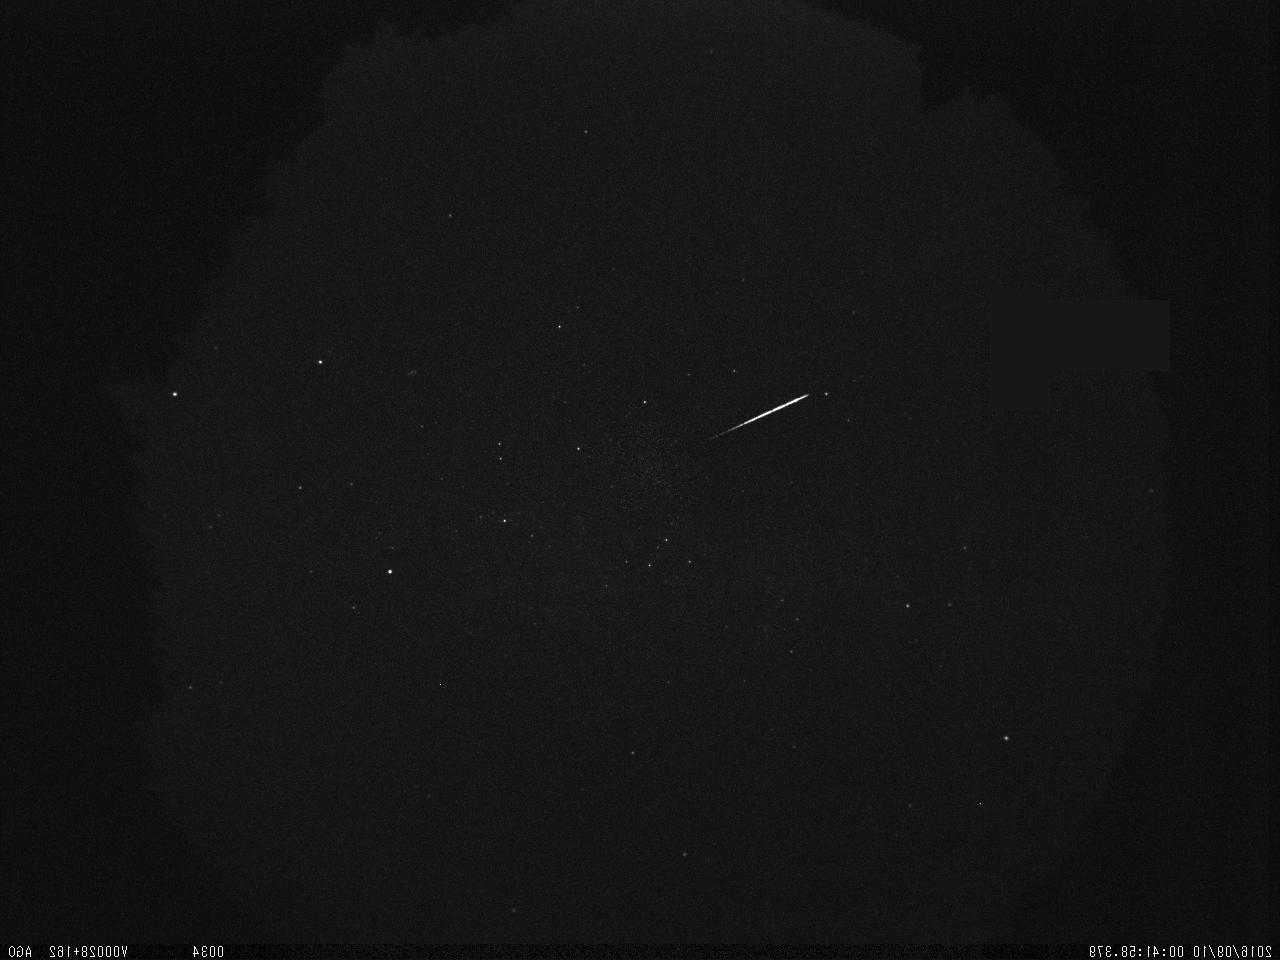meteor: (696, 378, 817, 455)
